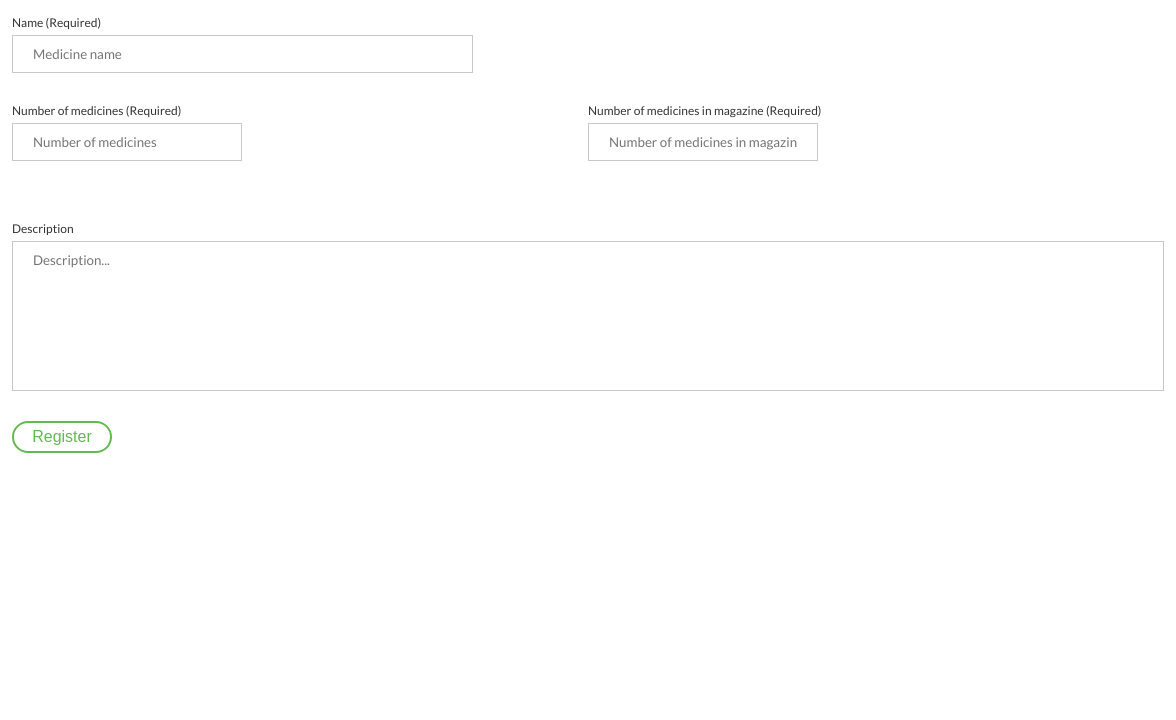
Test: <NewMedicineForm /> › shows errors when register with empty inputs
Click the button "Register": click(62, 437) [12,421,112,453]
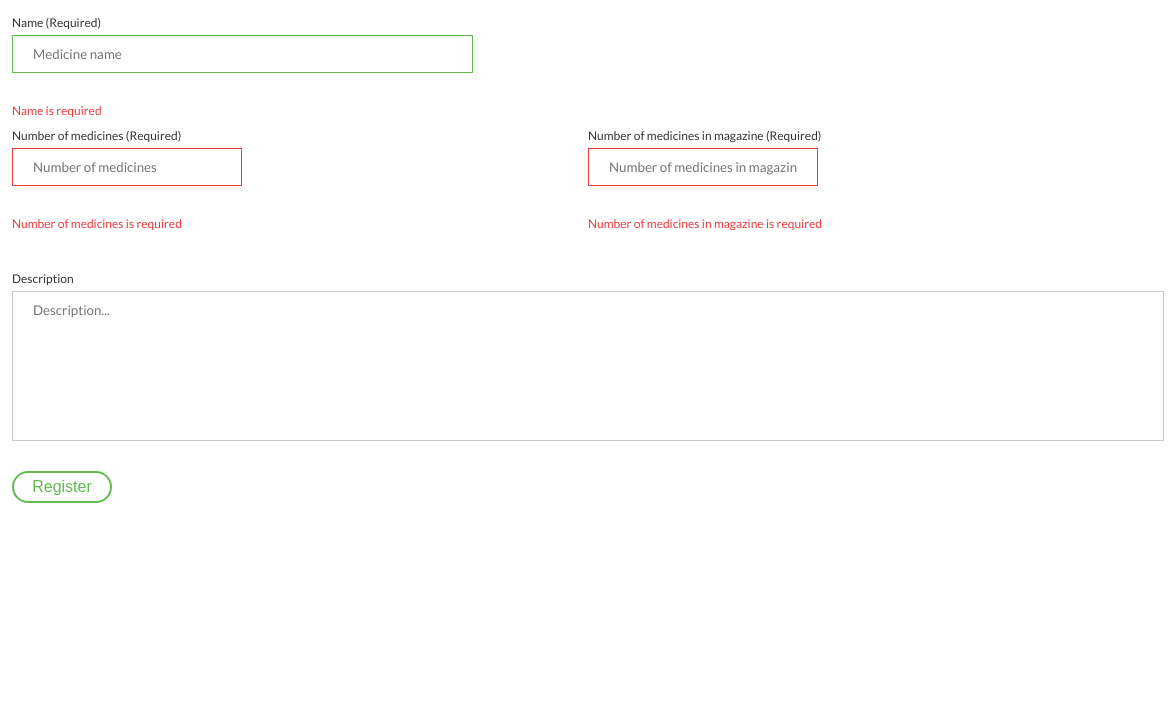
Expected: the text "Name is required" is shown, [12,103,102,118]
Expected: the text "Number of medicines in magazine is required" is shown, [588,216,822,231]
Expected: the text "Number of medicines is required" is shown, [12,216,182,231]
